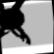not correct: (0, 0, 35, 47)
